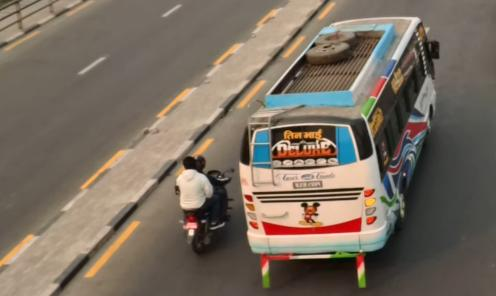bus: (230, 12, 445, 283)
